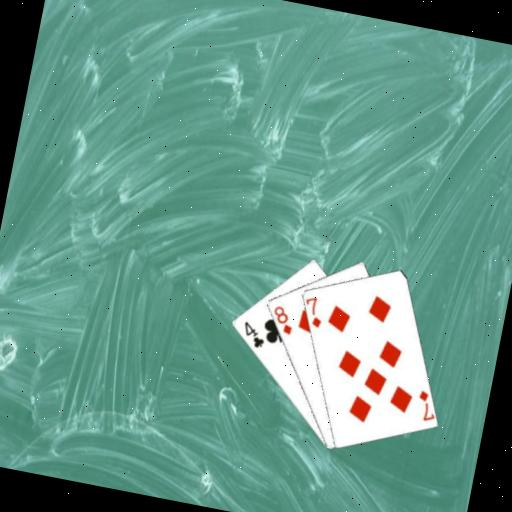4C: (237, 318, 269, 351)
7D: (299, 292, 327, 331), (411, 386, 439, 424)
8D: (267, 301, 298, 337)
